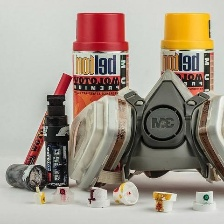aerosol_cans: (70, 9, 131, 183), (156, 8, 216, 173)
